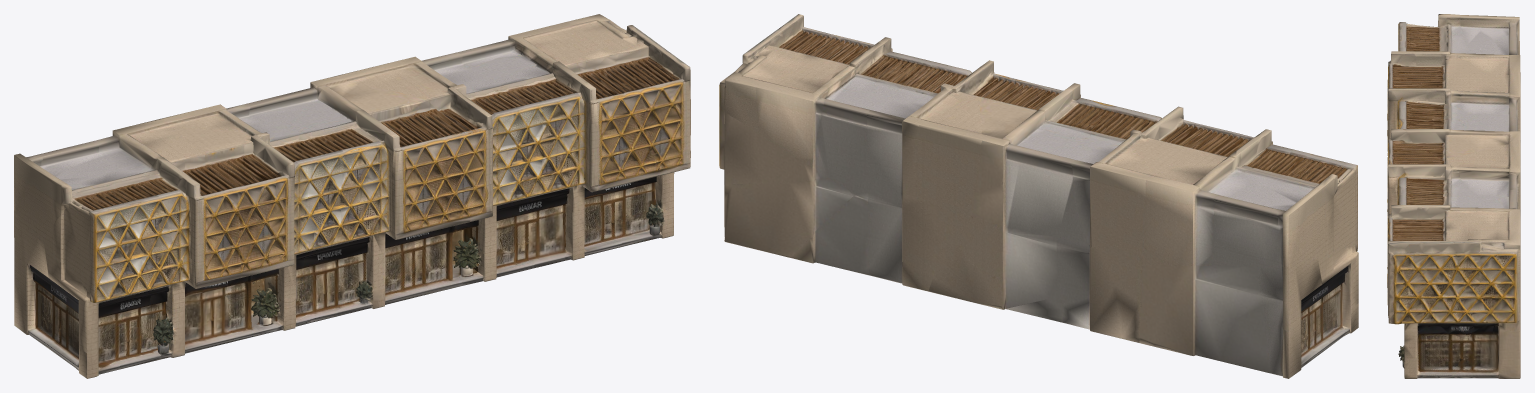
File: shophouse_lod1.glb
The picture shows the model from 3 angles, left to right: view 1: azimuth 30°, elevation 25°; view 2: azimuth 150°, elevation 25°; view 3: azimuth 270°, elevation 25°; orthographic projection. The views are drawn at different scales.
Parts seen in each view (by area): view 1: mesh_node; view 2: mesh_node; view 3: mesh_node.
Part boxes in pixels (box(x1,y1,x2,y2)): mesh_node: box(14, 14, 690, 378); mesh_node: box(719, 14, 1358, 378); mesh_node: box(1387, 14, 1520, 378).
Bounding box in the file's own units: 1.9 × 0.5361 × 0.4646.
1 material, 1 textured.
